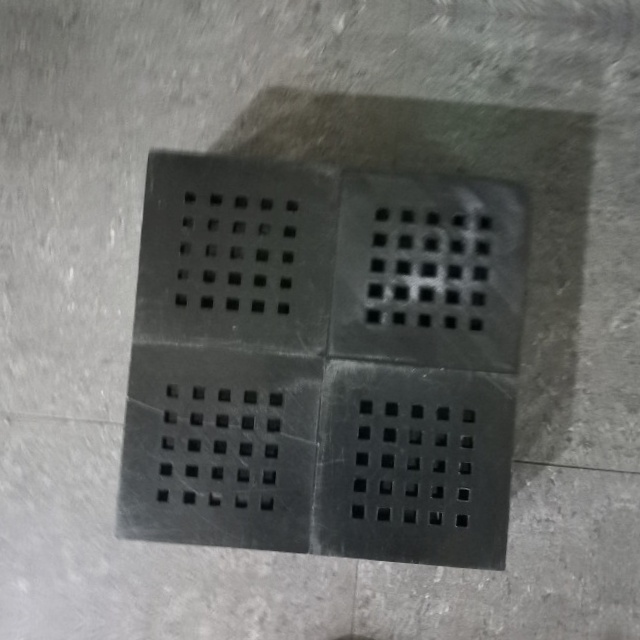pallet: (106, 141, 544, 591)
